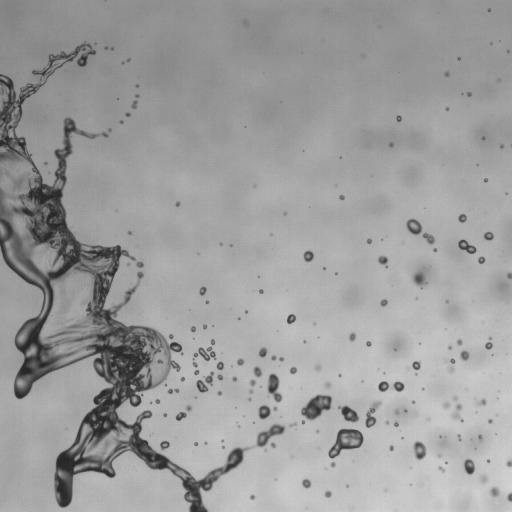droplet: (328, 428, 363, 459), (194, 339, 216, 361), (196, 371, 214, 392), (338, 405, 359, 422), (258, 405, 277, 419), (406, 218, 422, 234), (413, 441, 426, 460), (412, 272, 427, 288), (464, 458, 474, 474), (422, 233, 434, 244), (303, 250, 313, 262), (489, 486, 499, 497), (378, 256, 387, 267), (286, 314, 295, 324), (258, 347, 267, 357), (460, 350, 469, 360), (302, 478, 311, 488), (253, 366, 261, 377), (175, 412, 186, 420), (485, 337, 492, 349), (160, 441, 169, 450), (484, 232, 493, 240), (412, 361, 420, 370), (477, 398, 486, 406), (441, 401, 450, 409), (479, 474, 487, 483), (458, 214, 466, 222), (289, 366, 297, 374), (199, 286, 206, 295), (349, 332, 356, 341), (216, 361, 223, 370), (505, 492, 511, 502), (478, 256, 485, 263), (380, 299, 387, 306), (237, 358, 244, 365), (314, 364, 321, 371), (324, 381, 331, 388), (131, 100, 137, 108), (506, 458, 511, 467), (249, 379, 255, 386), (325, 490, 331, 497), (217, 374, 223, 380), (438, 466, 444, 472), (396, 115, 401, 121), (190, 326, 195, 332), (457, 339, 462, 345), (194, 369, 199, 375), (186, 405, 191, 411), (330, 461, 335, 467), (444, 71, 449, 76), (175, 201, 180, 206), (366, 238, 371, 243), (366, 341, 371, 346), (271, 355, 276, 360), (507, 272, 511, 278), (193, 360, 197, 366), (290, 422, 296, 426), (478, 434, 482, 440), (271, 442, 275, 448), (389, 445, 393, 451), (125, 112, 130, 116), (389, 142, 393, 147), (339, 195, 344, 199), (217, 391, 222, 395), (394, 421, 398, 426), (457, 435, 461, 440), (250, 494, 254, 499), (467, 92, 471, 96), (259, 289, 263, 293), (169, 334, 173, 338), (279, 357, 283, 361), (180, 377, 184, 381), (232, 377, 236, 381), (249, 389, 253, 393), (155, 399, 159, 403), (488, 419, 492, 423), (445, 107, 448, 111), (483, 178, 487, 181), (433, 248, 436, 252), (203, 324, 206, 328), (395, 410, 398, 414), (163, 413, 167, 416), (385, 420, 388, 424), (135, 94, 138, 97), (448, 346, 451, 349), (487, 459, 490, 462), (136, 84, 138, 87), (120, 120, 122, 123), (108, 129, 111, 131), (500, 145, 503, 147), (6, 172, 8, 175), (206, 300, 208, 303), (338, 374, 341, 376), (248, 398, 251, 400), (412, 400, 414, 403), (316, 430, 319, 432), (195, 442, 197, 445), (204, 442, 207, 444), (222, 445, 224, 448), (457, 57, 459, 59), (127, 59, 129, 61), (497, 79, 499, 81), (482, 137, 484, 139), (44, 162, 46, 164), (284, 213, 286, 215), (128, 231, 130, 233), (323, 267, 325, 269), (446, 301, 448, 303), (438, 454, 440, 456)
ligament: (0, 42, 285, 511), (300, 394, 332, 424), (267, 373, 282, 402), (365, 400, 381, 427), (451, 395, 463, 421), (378, 381, 404, 391), (458, 239, 476, 253), (446, 358, 454, 373), (60, 300, 69, 313), (168, 388, 179, 393)
